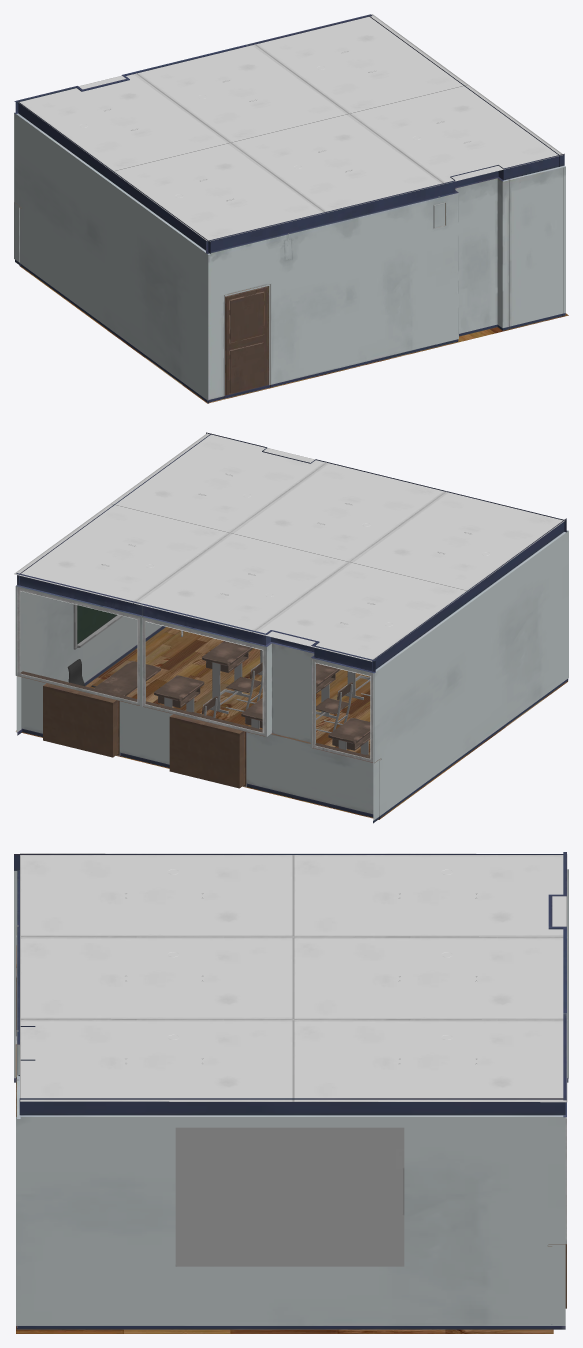
File: anime-school-classroom-light.glb
The picture shows the model from 3 angles, top to bottom: view 1: azimuth 30°, elevation 25°; view 2: azimuth 150°, elevation 25°; view 3: azimuth 270°, elevation 25°; orthographic projection. The views are drawn at different scales.
Parts seen in each view (by area): view 1: Wall, Roof, Windows, Floor; view 2: Roof, Windows, Wall, Floor, School_desk, Teacher_desk, School_blackboards; view 3: Roof, Wall, School_blackboards, Floor, Windows.
Part boxes in pixels (x1=…): Wall: x1=14, y1=16, x2=565, y2=403; Roof: x1=18, y1=14, x2=563, y2=241; Windows: x1=14, y1=14, x2=372, y2=266; Floor: x1=19, y1=265, x2=568, y2=403; Roof: x1=14, y1=433, x2=564, y2=661; Windows: x1=15, y1=573, x2=381, y2=819; Wall: x1=16, y1=432, x2=568, y2=823; Floor: x1=16, y1=627, x2=567, y2=819; School_desk: x1=154, y1=641, x2=370, y2=755; Teacher_desk: x1=67, y1=659, x2=160, y2=700; School_blackboards: x1=73, y1=604, x2=183, y2=649; Roof: x1=20, y1=853, x2=567, y2=1102; Wall: x1=14, y1=854, x2=568, y2=1329; School_blackboards: x1=175, y1=1127, x2=404, y2=1266; Floor: x1=16, y1=1083, x2=553, y2=1333; Windows: x1=548, y1=852, x2=566, y2=1324.
Bounding box in the file's own units: 7.86 × 3.36 × 7.33.
8 materials, 8 textured.
